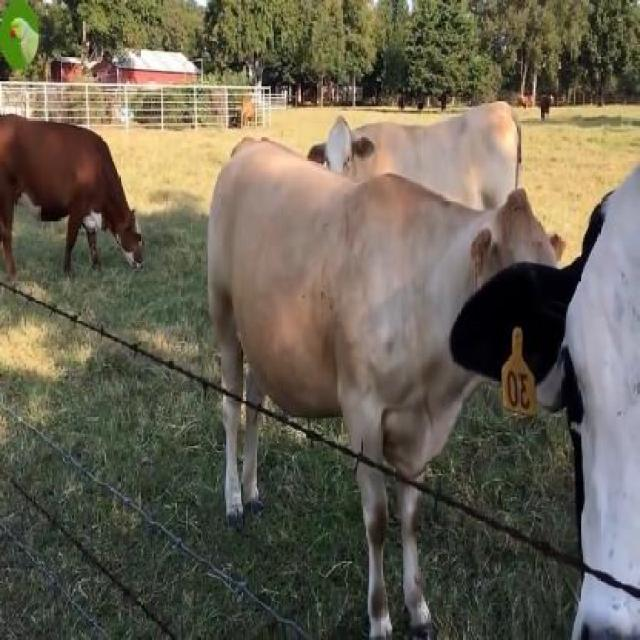Cow: (207, 140, 556, 618)
